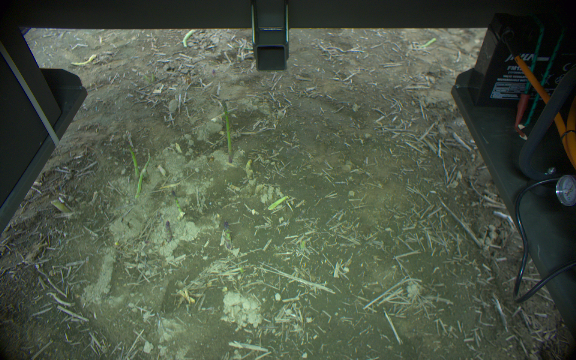aspa: (220, 101, 235, 162), (133, 154, 151, 198), (68, 49, 100, 70), (267, 192, 290, 215), (126, 145, 139, 176), (169, 189, 184, 212), (221, 220, 233, 248), (181, 30, 199, 48), (163, 219, 174, 240)
